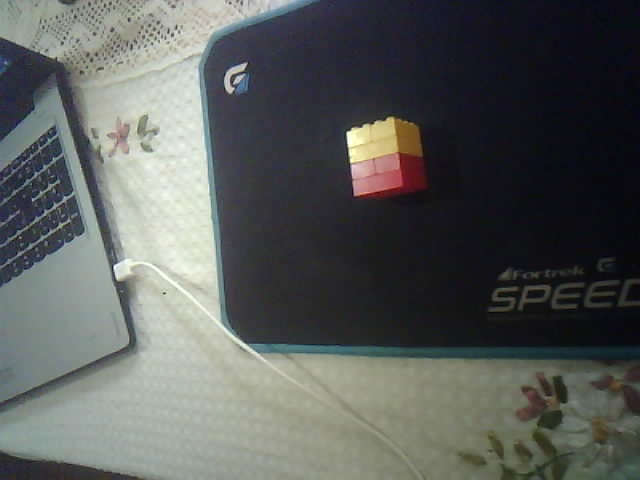lego: (345, 116, 428, 200)
